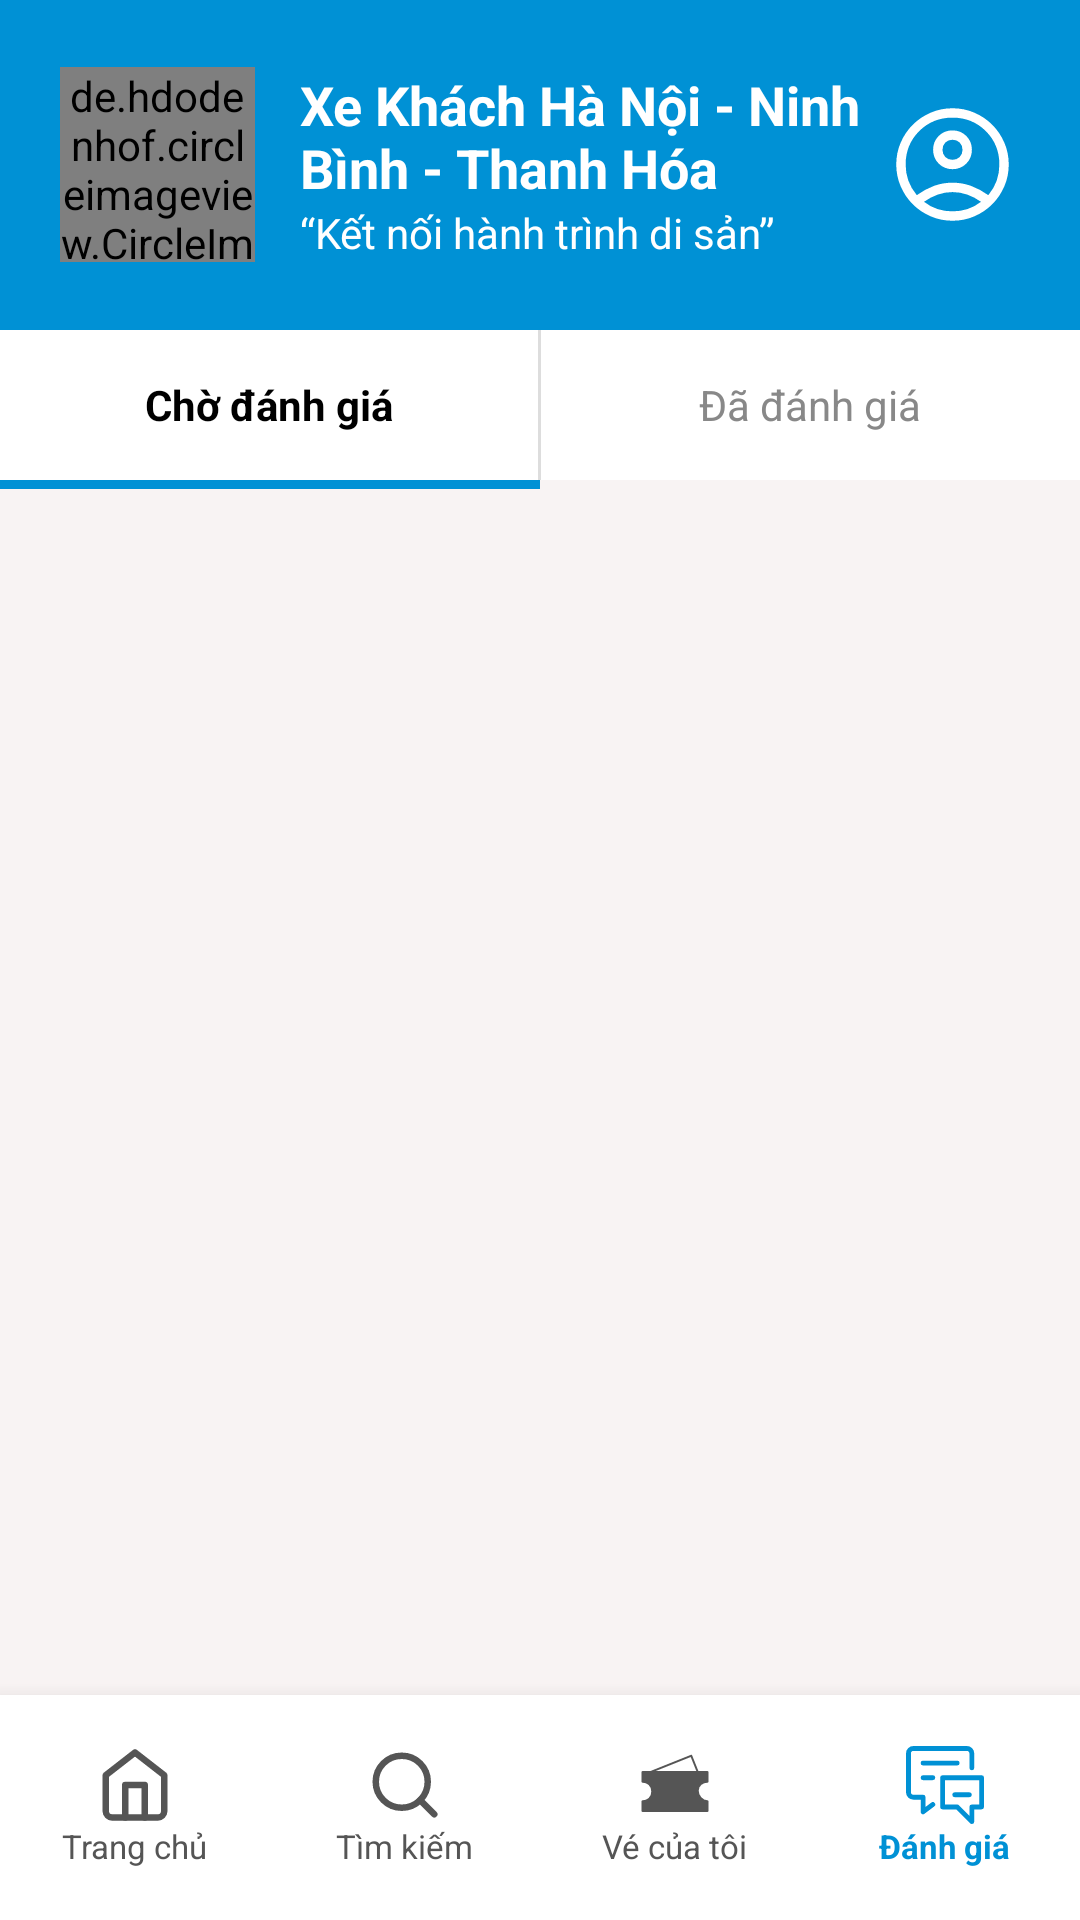

Icon bounding boxes for this 1080 x 1920 phone screenshot, format (x1, y1, x2, y2):
ticket: (641, 1754, 709, 1812)
user: (896, 108, 1009, 221)
